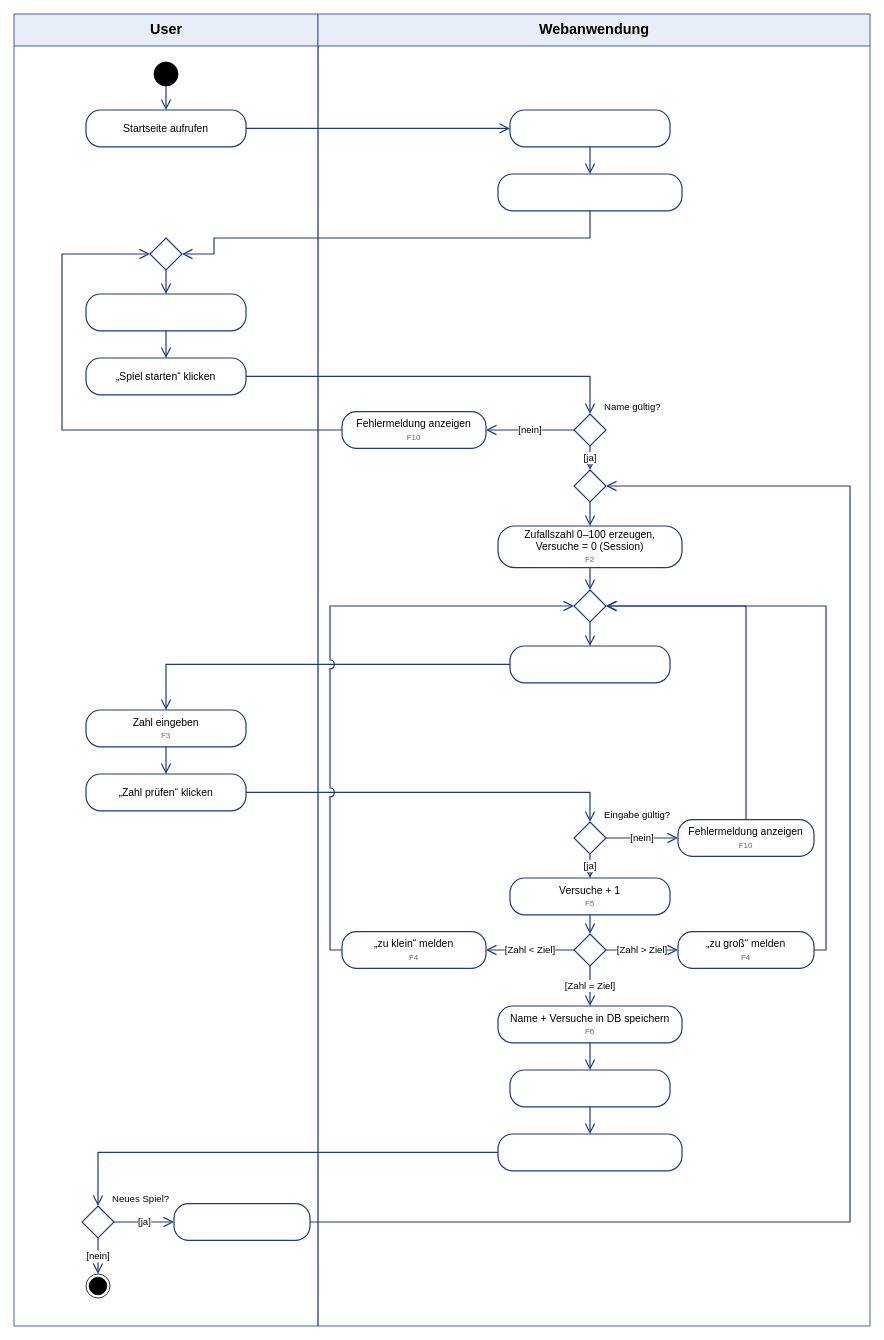
Image size: 884x1340. Some labels were removed from this diagram. Each missing label, with the box of its shape:
Ergebnis mit Rangliste anzeigen F4, F8: (497, 1133, 682, 1171)
Namen eingeben F1: (85, 293, 246, 331)
Rangliste aus DB lesen F7: (509, 109, 670, 147)
Rangliste aus DB lesen F8: (509, 1069, 670, 1107)
Spielseite anzeigen: (509, 645, 670, 683)
Startseite mit Rangliste anzeigen: (497, 173, 682, 211)
Vergleich: (573, 933, 606, 966)
„Neues Spiel“ klicken F9: (173, 1203, 310, 1241)
